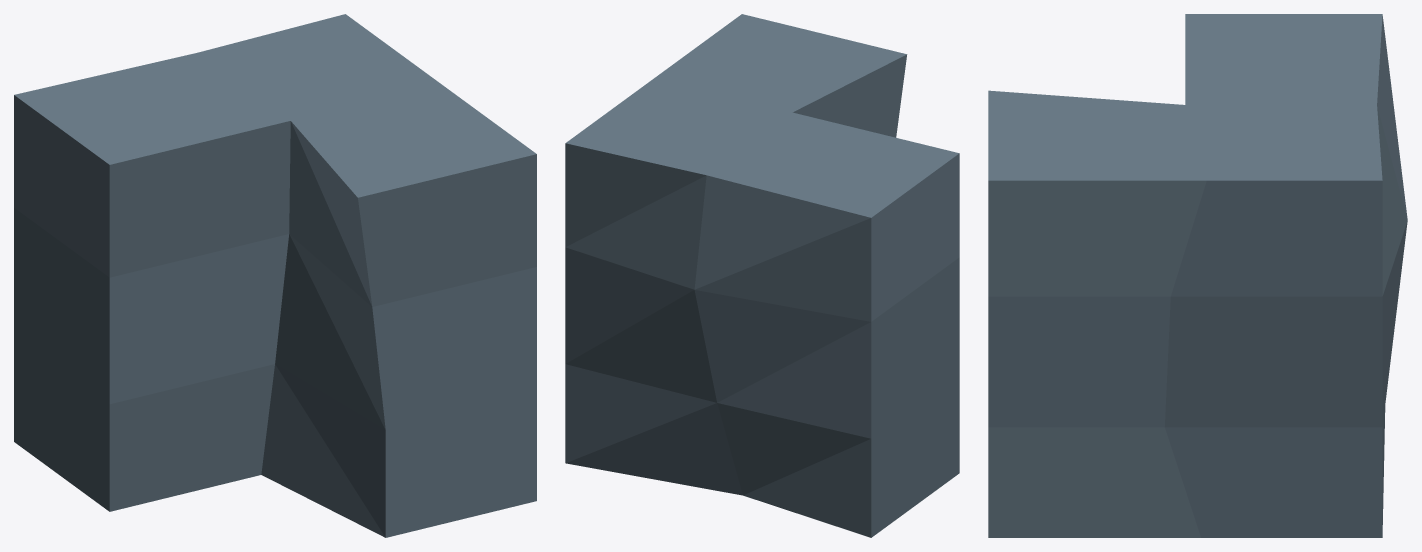
The model's file is T05_Cliff_Corner_2m.fbx.
The picture shows the model from 3 angles, left to right: view 1: azimuth 30°, elevation 25°; view 2: azimuth 150°, elevation 25°; view 3: azimuth 270°, elevation 25°; orthographic projection. The views are drawn at different scales.
Parts seen in each view (by area): view 1: T05_Cliff_Corner_2m; view 2: T05_Cliff_Corner_2m; view 3: T05_Cliff_Corner_2m.
Part boxes in pixels (x1,y1,x2,y2): T05_Cliff_Corner_2m: (14, 14, 536, 537); T05_Cliff_Corner_2m: (565, 14, 959, 537); T05_Cliff_Corner_2m: (988, 14, 1407, 537).
Bounding box in the file's own units: 2 × 2 × 2.13.
1 material, 1 textured.
